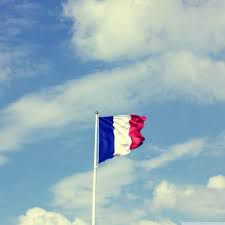French Flag: (98, 112, 147, 162)
